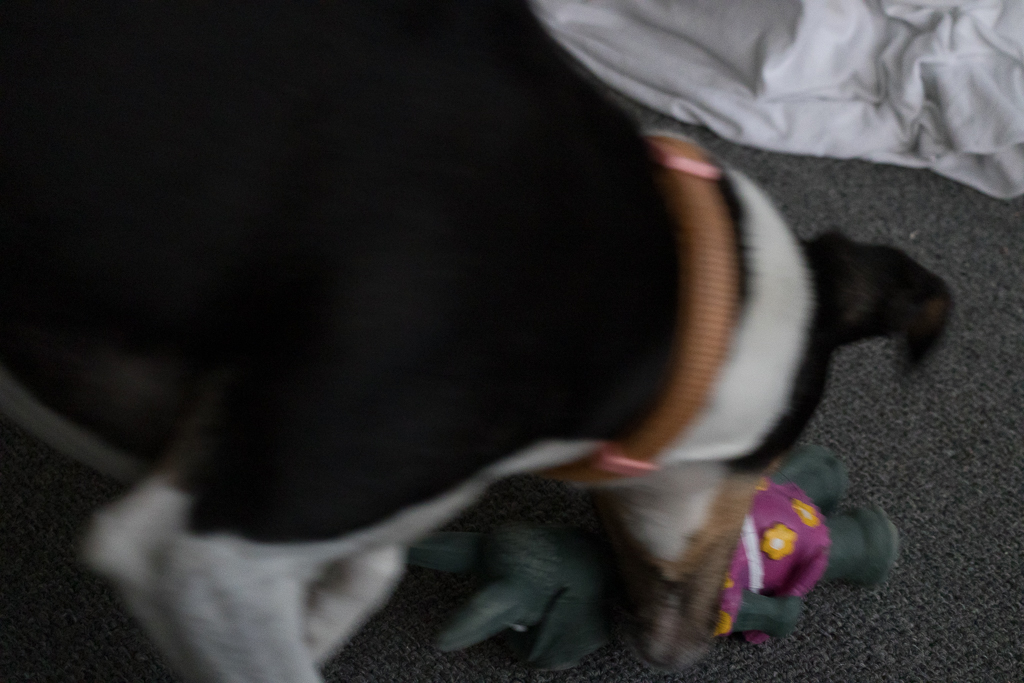Dog: (0, 0, 962, 683)
Humanoid: (377, 438, 919, 683)
